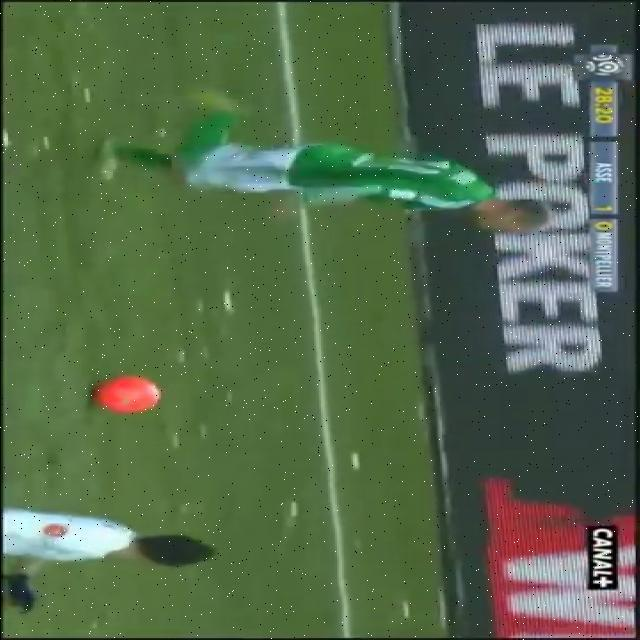ball: (76, 374, 192, 418)
player: (27, 65, 586, 249), (0, 490, 286, 629)
